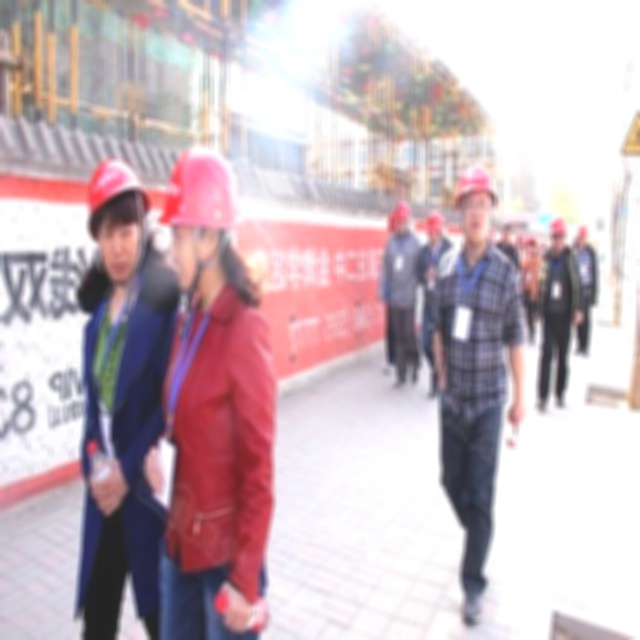Con_Casco: (165, 146, 234, 281), (88, 160, 147, 272), (456, 165, 495, 240)
